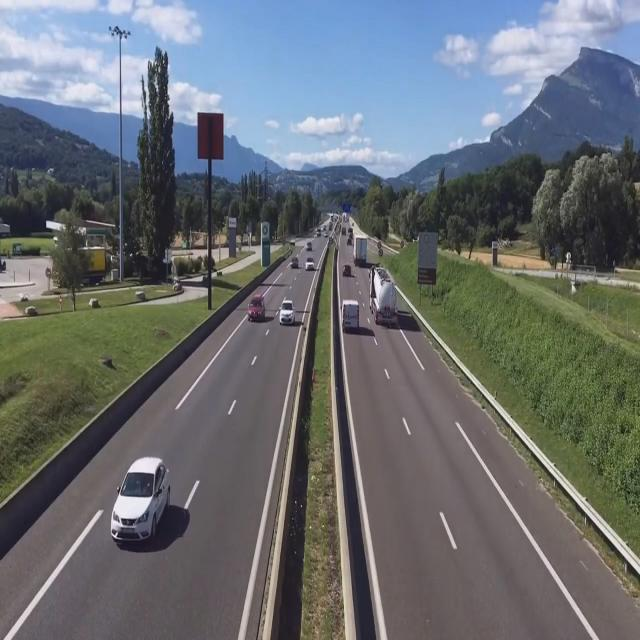bus: (340, 297, 360, 334)
car: (109, 456, 172, 550), (248, 291, 268, 322), (278, 300, 296, 326)
truck: (368, 259, 398, 328), (353, 233, 369, 267)
